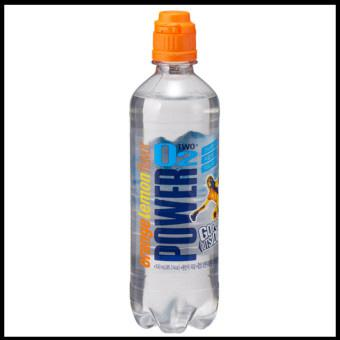powerO2_orange: (123, 8, 226, 332)
